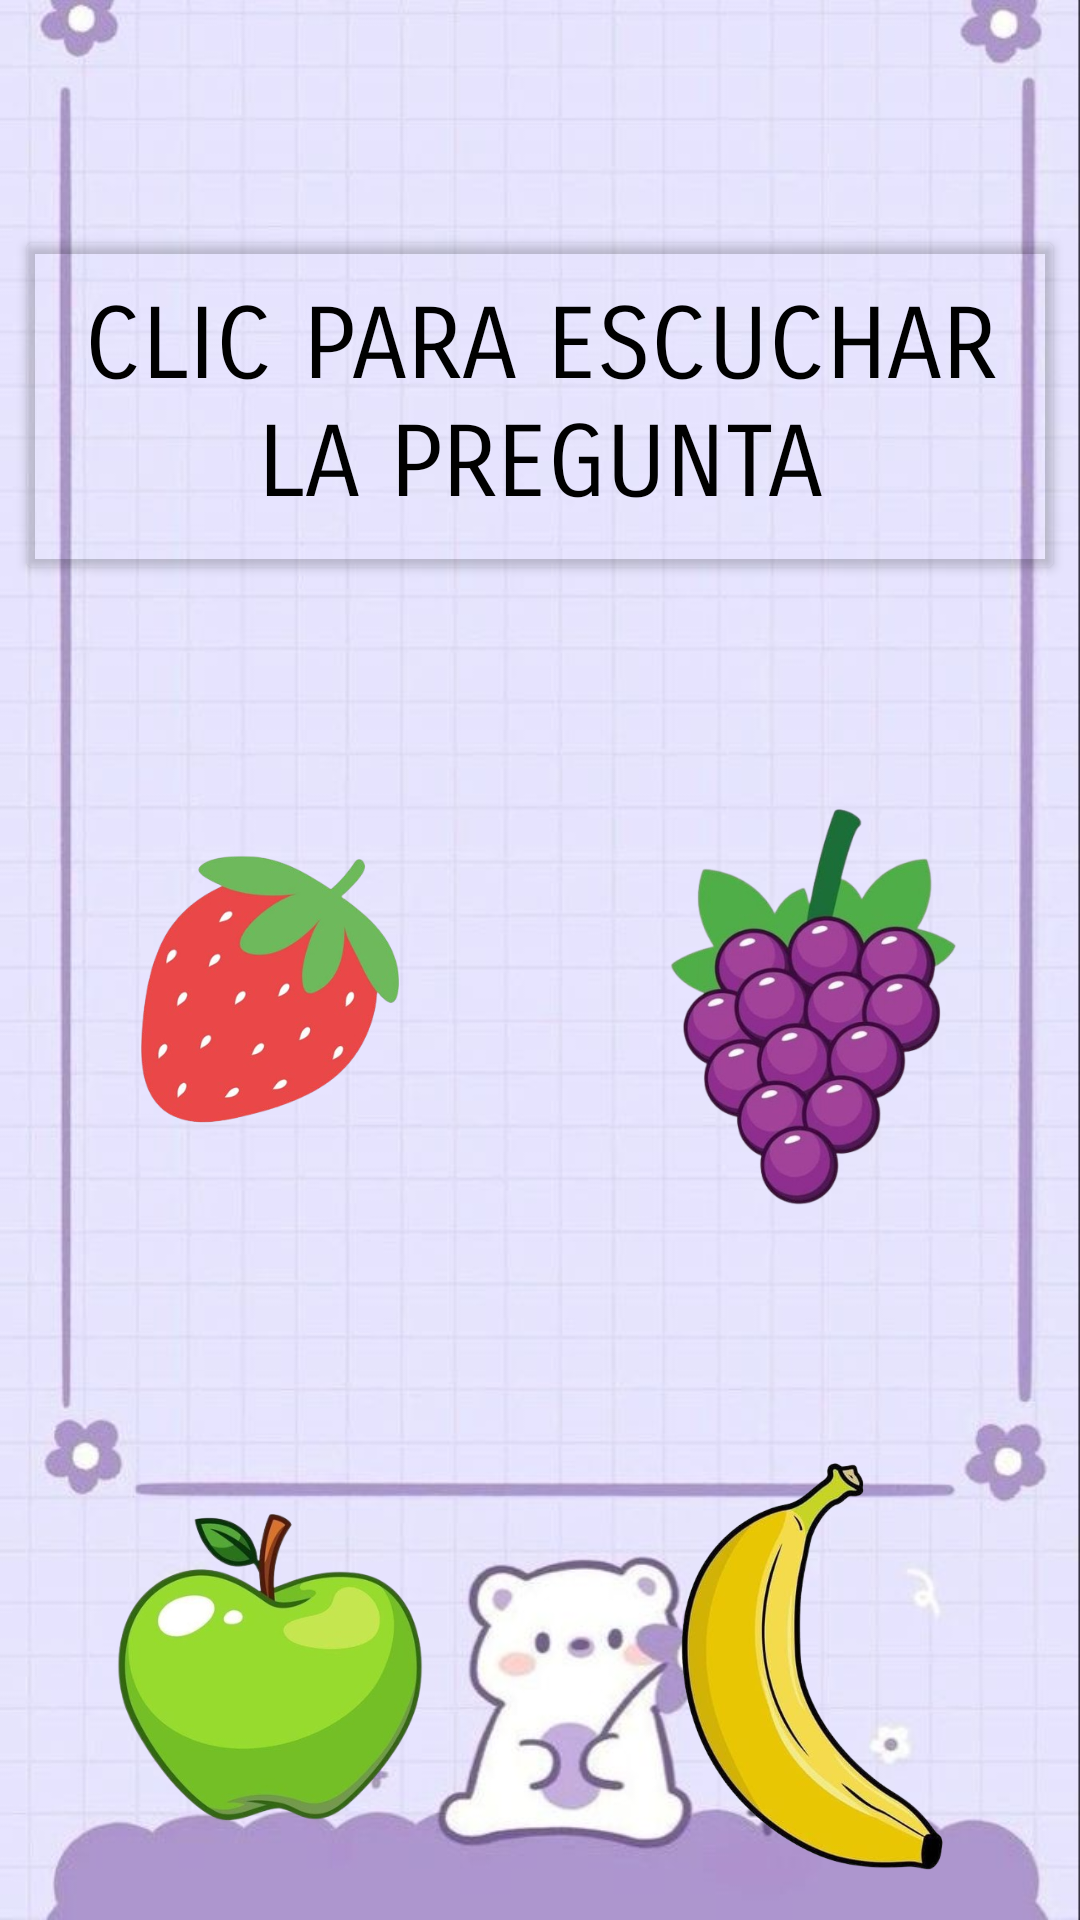

Icons on this 1080px×1920px Android screen, each with its box as (x1, y1, x2, y2):
fresa: (141, 856, 399, 1123)
